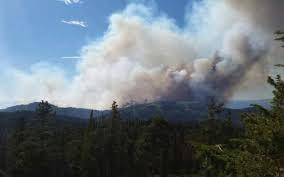smoke: (76, 1, 284, 108)
